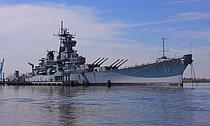MIL_Ship: (19, 20, 202, 86)
